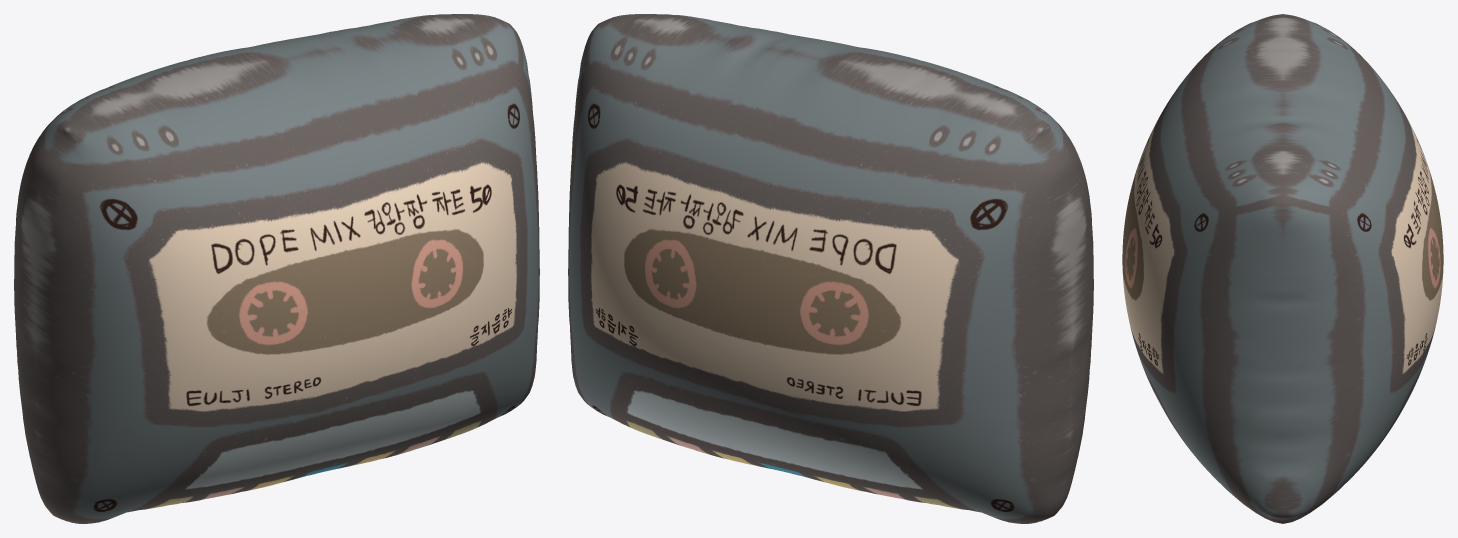
Rendered from Tape0.glb.
3 renders of one model, left to right at view 1: azimuth 30°, elevation 25°; view 2: azimuth 150°, elevation 25°; view 3: azimuth 270°, elevation 25°, orthographic. The views are drawn at different scales.
Size of the model in its own units: 7.64 by 6.15 by 5.06.
1 material, 1 textured.
